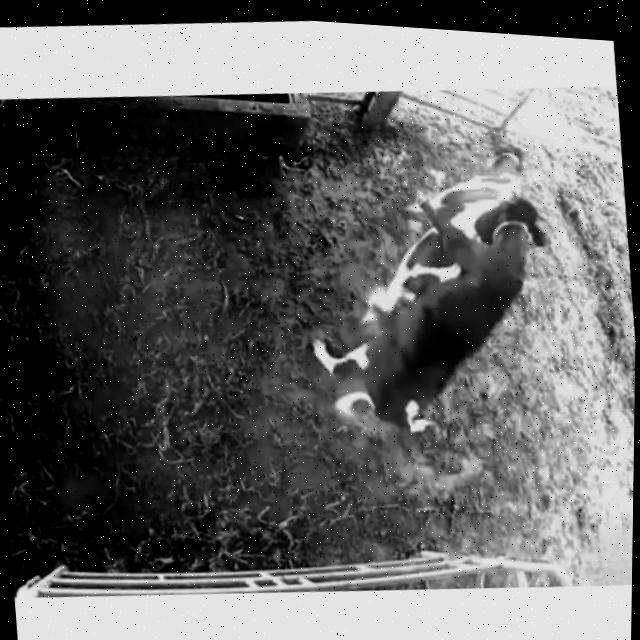ride: (266, 163, 576, 485)
